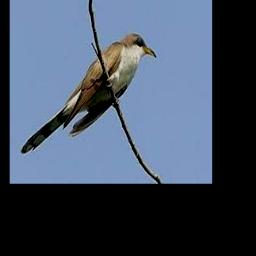Cuckoo: (21, 34, 155, 154)
